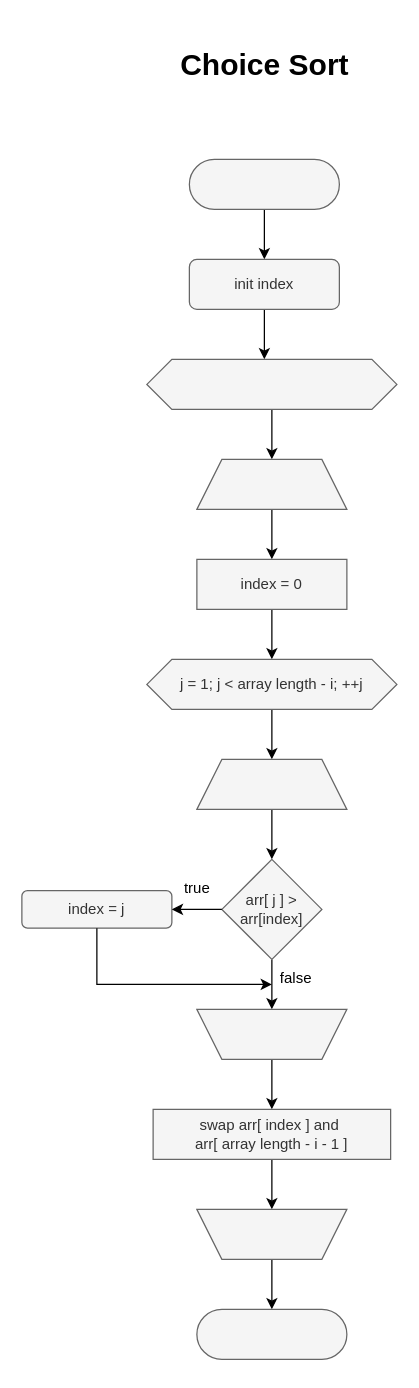
Some shapes in this 419 by 1388 pixel diagram are drawn without their labels. The centre of each missing label's shape, as x and y in pixels:
Begin: [263,183]
End: [271,1333]
i == 0; i < array length; ++i: [271,383]
